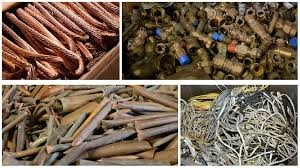metal: (69, 97, 117, 151), (51, 91, 130, 114), (98, 110, 183, 127), (132, 85, 178, 113), (244, 11, 275, 49), (128, 122, 186, 142), (1, 108, 36, 138), (208, 52, 245, 77), (130, 114, 181, 129), (5, 90, 47, 107), (189, 28, 218, 49), (169, 40, 192, 65), (269, 41, 297, 60), (220, 6, 244, 24), (280, 22, 299, 39)
